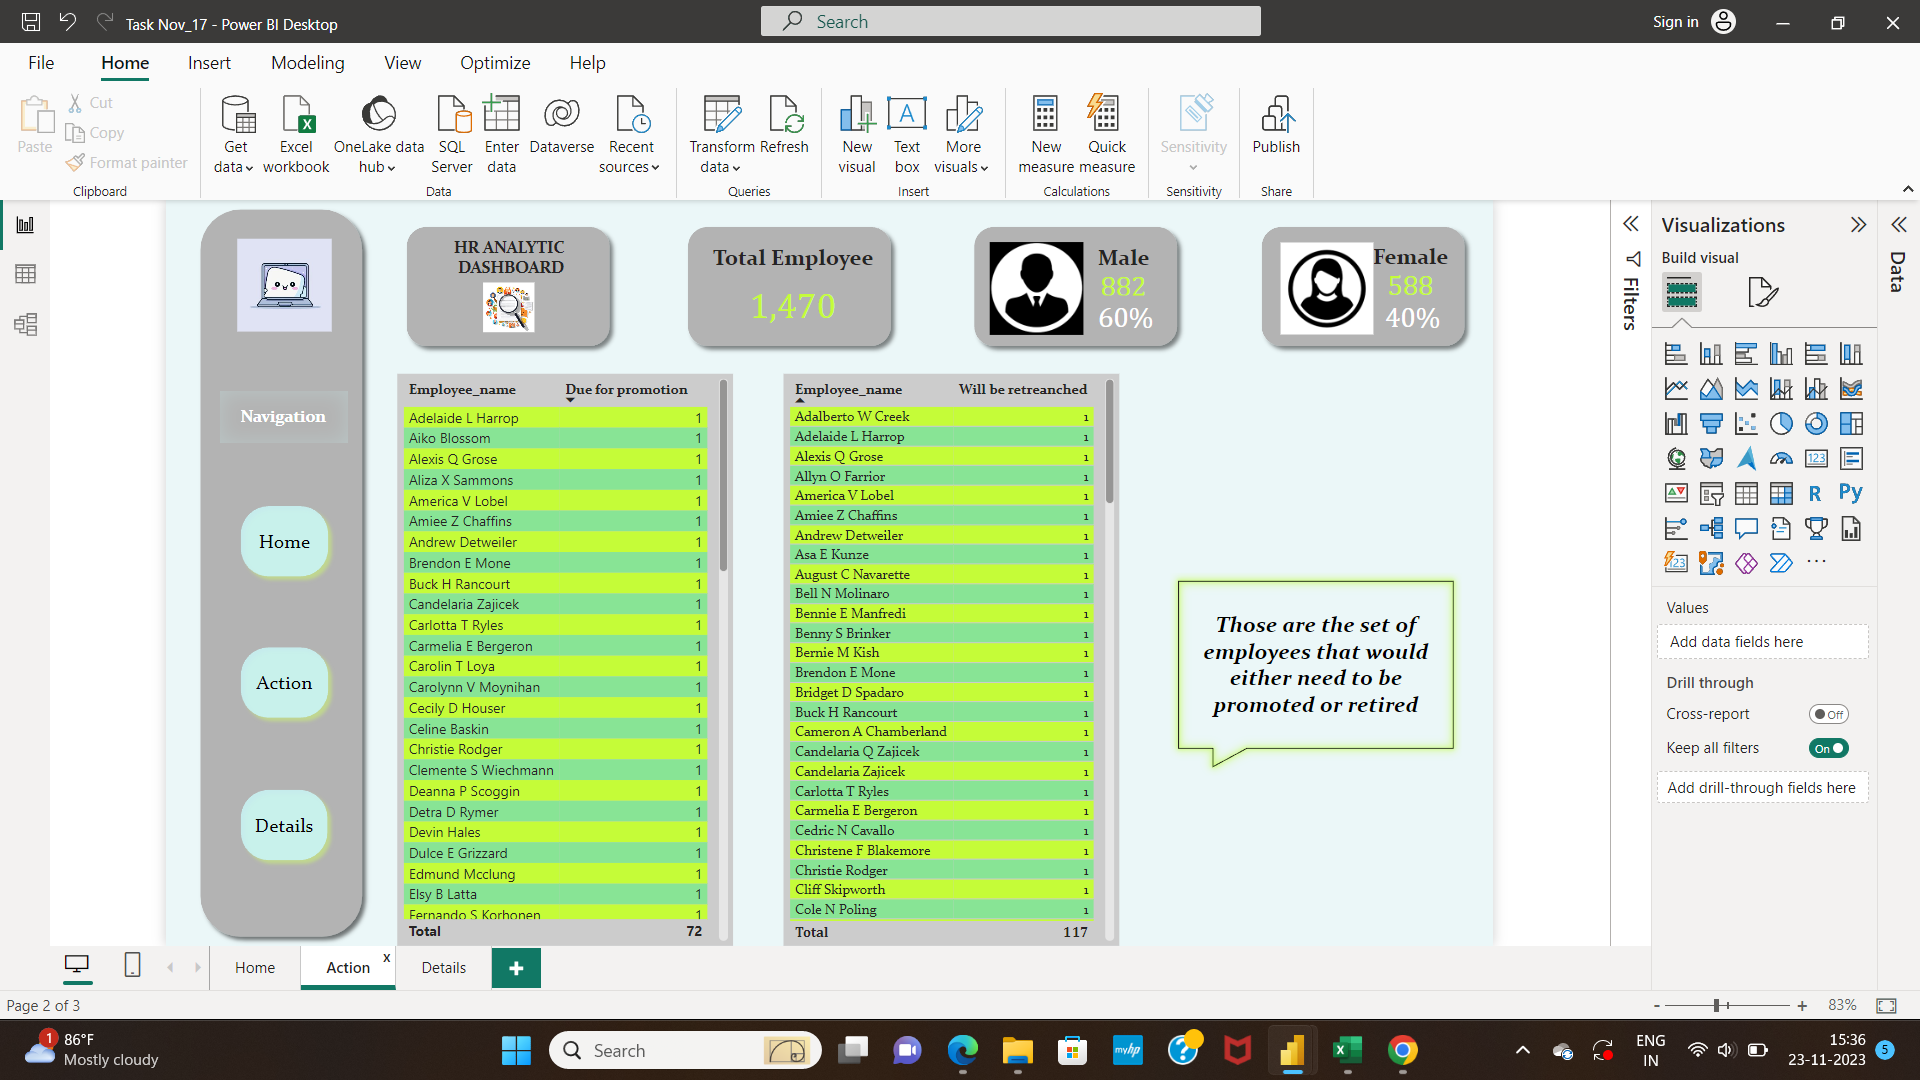

Layout of this report page (visuals, bound fields, positions):
{"tool":"powerbi","page":{"name":"Action","canvas":[1280,720],"ordinal":1},"visuals":[{"type":"shape","box":[24.7,0,174.1,719.8],"z":0},{"type":"shape","box":[223.5,16.5,213.9,133],"z":1000},{"type":"shape","box":[494.9,16.5,213.9,133],"z":2000},{"type":"shape","box":[770.5,16.5,213.9,133],"z":3000},{"type":"shape","box":[1047.5,16.5,213.9,133],"z":4000},{"type":"textbox","box":[237.2,31.5,190.6,65.8],"z":5000},{"type":"image","box":[300,75,60,58],"z":6000},{"type":"card","title":"Total Employee","fields":{"Values":["new measures.Total Emp"]},"box":[512,34,185,98],"z":7000},{"type":"card","title":"Male","fields":{"Values":["new measures.Male"]},"box":[877.5,34.3,91.9,63.1],"z":8000},{"type":"card","title":"Female","fields":{"Values":["new measures.Female"]},"box":[1154.4,32.9,93.2,64.4],"z":9000},{"type":"card","title":"Female","fields":{"Values":["new measures.% Female"]},"box":[1154.4,79.5,97.3,64.4],"z":10000},{"type":"card","title":"Male","fields":{"Values":["new measures.% male"]},"box":[877.5,79.5,96,64.4],"z":11000},{"type":"image","box":[790,35,100,100],"z":12000},{"type":"image","box":[1069.4,35.6,100.1,98.7],"z":13000},{"type":"tableEx","fields":{"Values":["Sheet1.Emplyee name","new measures.Due for promotion"]},"box":[222.9,167.8,324.1,552],"z":14000},{"type":"tableEx","fields":{"Values":["Sheet1.Emplyee name","new measures.Will be retreanched"]},"box":[595.7,167.8,324.1,552],"z":15000},{"type":"image","box":[63.4,32.7,100.8,99.4],"z":16000},{"type":"actionButton","box":[63.7,287.1,100.8,84.5],"z":17000},{"type":"actionButton","box":[63.7,423.8,100.8,84.5],"z":18000},{"type":"actionButton","box":[64,560.6,100.1,84.4],"z":19000},{"type":"textbox","box":[51.8,184.4,124,50.4],"z":20000},{"type":"shape","box":[968.6,359.6,282,196.2],"z":21000}]}

Visuals, with their boxes on the page's 1280x720 design canvas (x1, y1, x2, y2). These are canvas units, not pixel positions in the 1920x1080 screenshot, which may show the page scaled, cropped or inside an application window:
shape: 25:0:199:720
shape: 224:16:437:150
shape: 495:16:709:150
shape: 770:16:984:150
shape: 1048:16:1261:150
textbox: 237:32:428:97
image: 300:75:360:133
"Total Employee" card: 512:34:697:132
"Male" card: 878:34:969:97
"Female" card: 1154:33:1248:97
"Female" card: 1154:80:1252:144
"Male" card: 878:80:974:144
image: 790:35:890:135
image: 1069:36:1170:134
tableEx - Sheet1.Emplyee name x new measures.Due for promotion: 223:168:547:720
tableEx - Sheet1.Emplyee name x new measures.Will be retreanched: 596:168:920:720
image: 63:33:164:132
actionButton: 64:287:164:372
actionButton: 64:424:164:508
actionButton: 64:561:164:645
textbox: 52:184:176:235
shape: 969:360:1251:556
